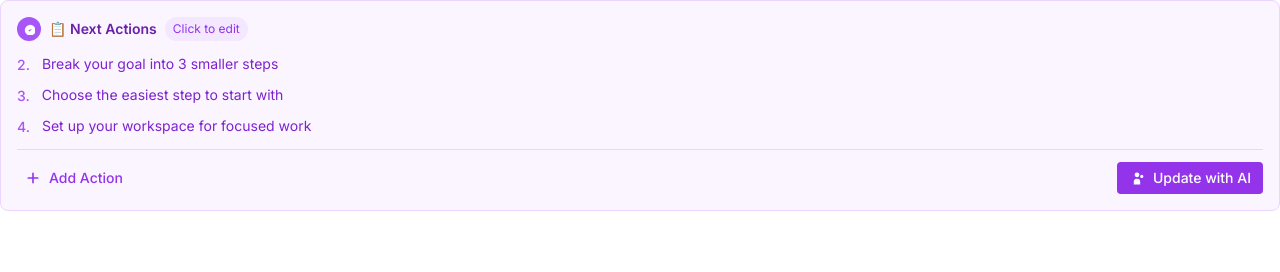
it: EditableNextActions › saves changes when Enter is pressed
The width and height of the screenshot is (1280, 272).
Click the button "Break your goal into 3 smaller steps". click: click(160, 64)
box: [42,55,278,72]
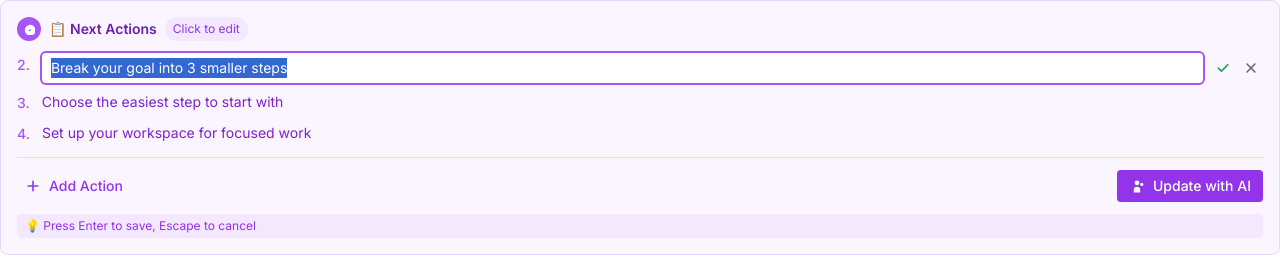
Replace the text in the field showing "Break your goal into 3 smaller steps" with "Modified action text". click: (622, 68)
box: [42,53,1203,83]
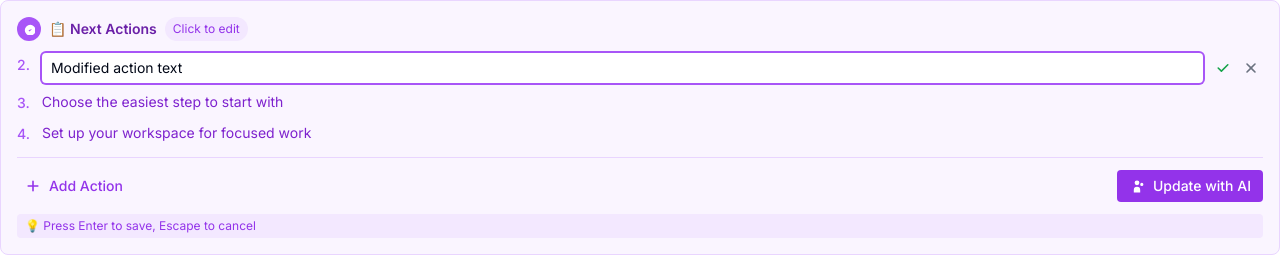
Press Enter in the field showing "Break your goal into 3 smaller steps", box [42,53,1203,83]
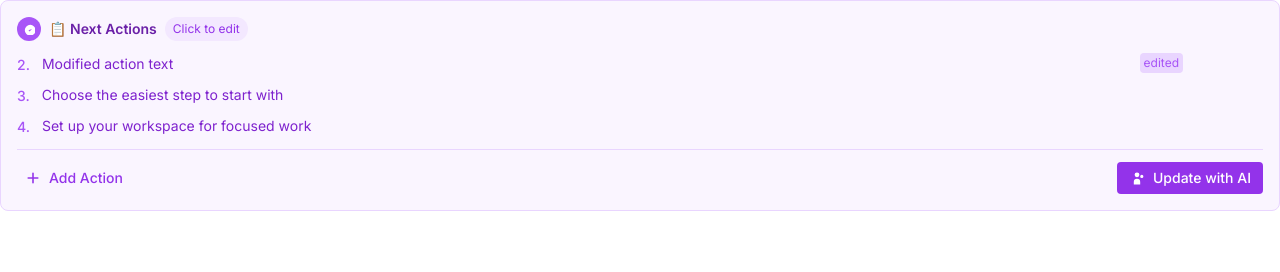
Now the text "Modified action text" is shown, box [42,55,173,72]
